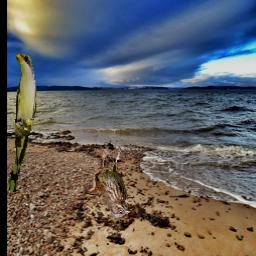Cuckoo: (8, 52, 36, 192)
Sparrow: (84, 146, 131, 220)
